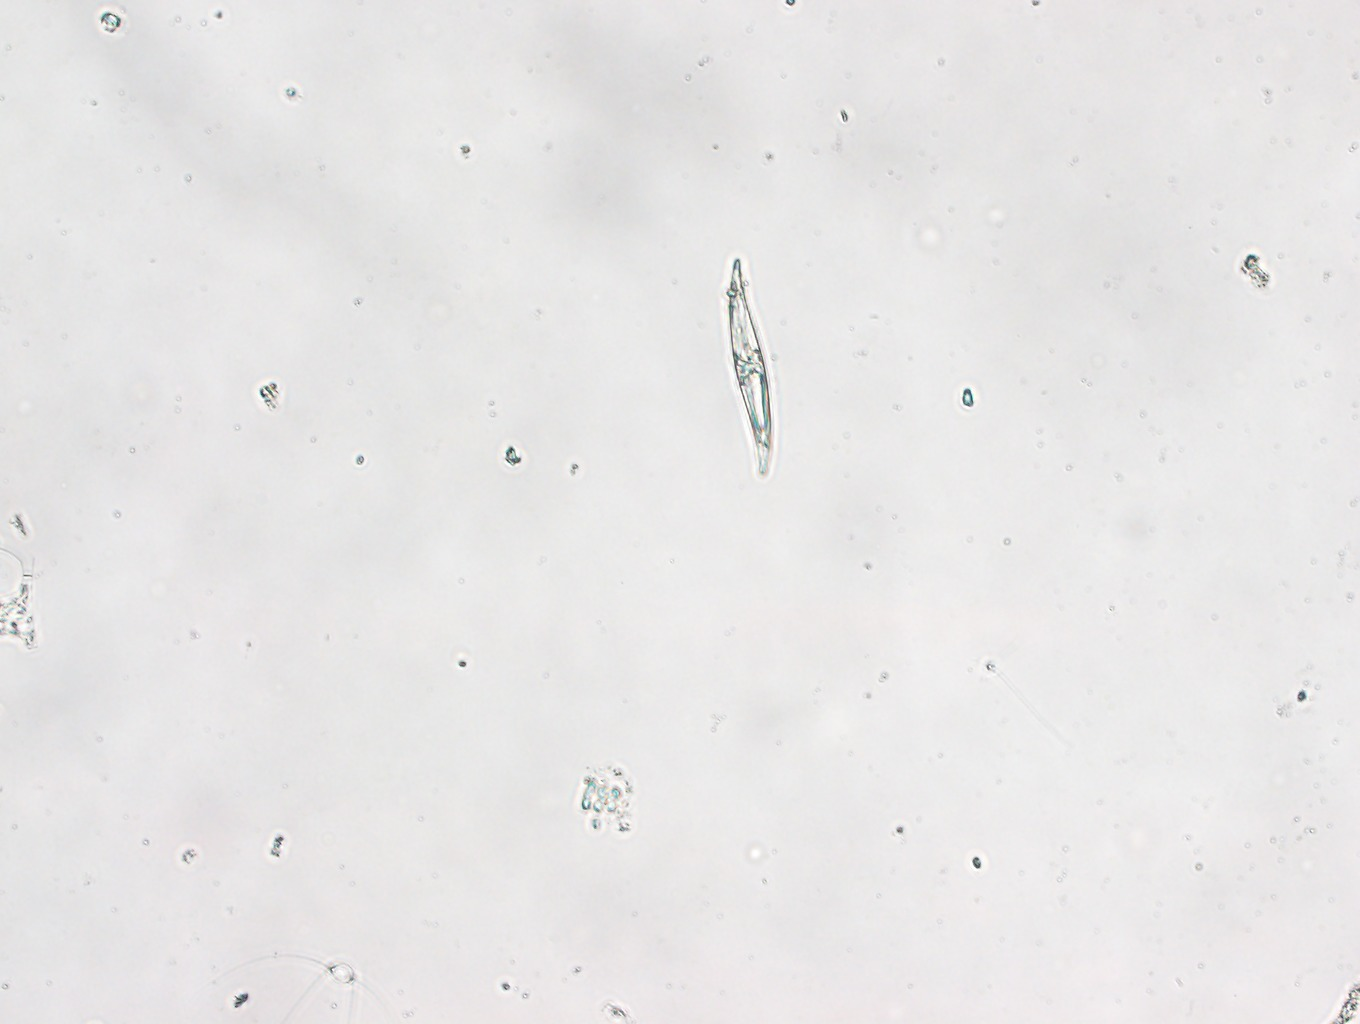pleurosigma pelagicum: (728, 259, 773, 477)
